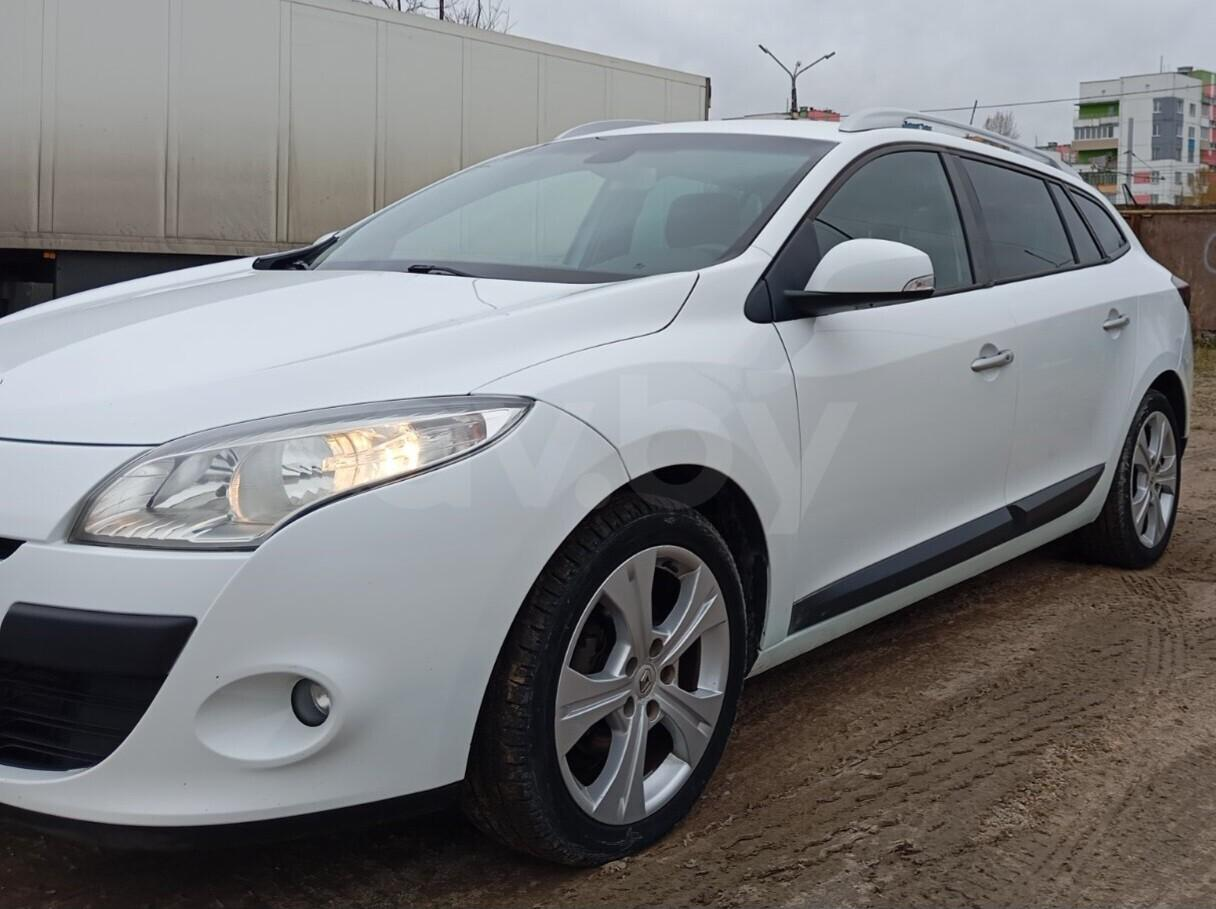Megane_2008-2014: (0, 110, 1175, 864)
